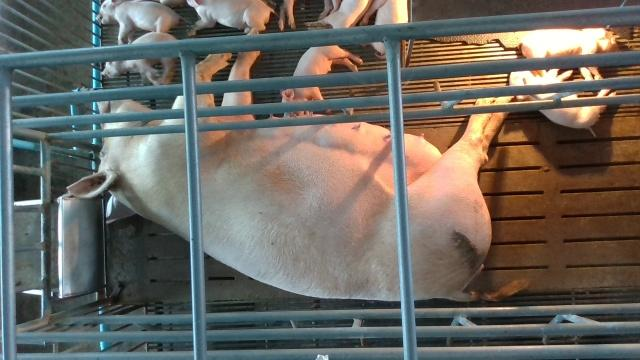piglet: (510, 69, 616, 138), (282, 43, 363, 118), (522, 25, 620, 82), (99, 32, 180, 86), (94, 0, 182, 45), (184, 0, 275, 36), (359, 0, 410, 56)
sow-sleep-lactate: (68, 30, 528, 303)
